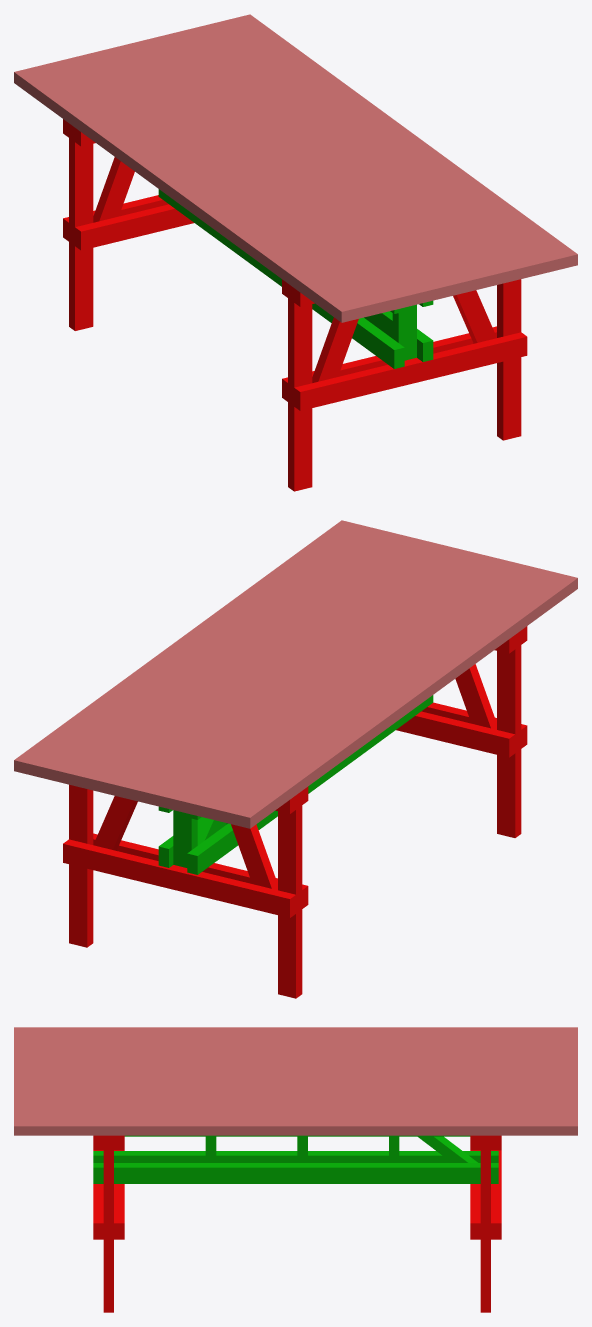
The model's file is result.glb.
The picture shows the model from 3 angles, top to bottom: view 1: azimuth 30°, elevation 25°; view 2: azimuth 150°, elevation 25°; view 3: azimuth 270°, elevation 25°; orthographic projection. The views are drawn at different scales.
Visible parts, largest first — view 1: f01cda4f-fea4-4fb4-b50f-f254b7c37427__Box, 9ad5894c-1731-42e7-a094-df88acd8469f__undefined, fd689261-884a-41bc-a431-fcae9d0514cc__undefined, 8b3b36bd-1a60-4970-8fec-e4345492557b__undefined, 8258c430-867c-410c-b911-88477d7d9fff__undefined, e932c676-e94f-4d91-ac6f-9d8df179f949__undefined, a14b9bd4-2081-4da4-8542-806a40004c1d__undefined, adceff99-3055-400a-8c76-454632bd57d8__undefined, 5f7ea577-e40b-4392-a7ad-b8107021092a__undefined, 0ea77595-7e87-43e1-b056-c6e717e0a643__undefined, a2caa1f7-7b6c-4606-88b4-88263eed52fd__undefined, cee1ed64-b99b-4541-9146-a5ae540dc895__undefined (+14 smaller); view 2: f01cda4f-fea4-4fb4-b50f-f254b7c37427__Box, 0ea77595-7e87-43e1-b056-c6e717e0a643__undefined, a2caa1f7-7b6c-4606-88b4-88263eed52fd__undefined, 5f7ea577-e40b-4392-a7ad-b8107021092a__undefined, adceff99-3055-400a-8c76-454632bd57d8__undefined, a14b9bd4-2081-4da4-8542-806a40004c1d__undefined, 8258c430-867c-410c-b911-88477d7d9fff__undefined, 9ad5894c-1731-42e7-a094-df88acd8469f__undefined, fd689261-884a-41bc-a431-fcae9d0514cc__undefined, e932c676-e94f-4d91-ac6f-9d8df179f949__undefined, 8b3b36bd-1a60-4970-8fec-e4345492557b__undefined, eae44491-f7da-47c2-a84f-74a95be33e50__undefined (+13 smaller); view 3: e932c676-e94f-4d91-ac6f-9d8df179f949__undefined, 15d348db-c147-4bd8-a8aa-251679641332__strutH, cee1ed64-b99b-4541-9146-a5ae540dc895__undefined, a14b9bd4-2081-4da4-8542-806a40004c1d__undefined, eae44491-f7da-47c2-a84f-74a95be33e50__undefined, f01cda4f-fea4-4fb4-b50f-f254b7c37427__Box, 0ea77595-7e87-43e1-b056-c6e717e0a643__undefined, adceff99-3055-400a-8c76-454632bd57d8__undefined, 8258c430-867c-410c-b911-88477d7d9fff__undefined, 9ad5894c-1731-42e7-a094-df88acd8469f__undefined, fd689261-884a-41bc-a431-fcae9d0514cc__undefined, a2caa1f7-7b6c-4606-88b4-88263eed52fd__undefined (+11 smaller).
Boxes of the visible parts, x1,y1,x2,y2 form: f01cda4f-fea4-4fb4-b50f-f254b7c37427__Box: (14, 67, 359, 322); 9ad5894c-1731-42e7-a094-df88acd8469f__undefined: (123, 41, 468, 296); fd689261-884a-41bc-a431-fcae9d0514cc__undefined: (159, 32, 505, 287); 8b3b36bd-1a60-4970-8fec-e4345492557b__undefined: (196, 23, 541, 278); 8258c430-867c-410c-b911-88477d7d9fff__undefined: (105, 45, 450, 300); e932c676-e94f-4d91-ac6f-9d8df179f949__undefined: (232, 14, 577, 269); a14b9bd4-2081-4da4-8542-806a40004c1d__undefined: (87, 50, 432, 304); adceff99-3055-400a-8c76-454632bd57d8__undefined: (69, 54, 414, 309); 5f7ea577-e40b-4392-a7ad-b8107021092a__undefined: (214, 19, 559, 273); 0ea77595-7e87-43e1-b056-c6e717e0a643__undefined: (50, 58, 396, 313); a2caa1f7-7b6c-4606-88b4-88263eed52fd__undefined: (178, 27, 523, 282); cee1ed64-b99b-4541-9146-a5ae540dc895__undefined: (32, 63, 377, 318); f01cda4f-fea4-4fb4-b50f-f254b7c37427__Box: (232, 573, 577, 828); 0ea77595-7e87-43e1-b056-c6e717e0a643__undefined: (195, 564, 540, 819); a2caa1f7-7b6c-4606-88b4-88263eed52fd__undefined: (68, 533, 413, 788); 5f7ea577-e40b-4392-a7ad-b8107021092a__undefined: (32, 524, 377, 779); adceff99-3055-400a-8c76-454632bd57d8__undefined: (177, 560, 522, 815); a14b9bd4-2081-4da4-8542-806a40004c1d__undefined: (159, 555, 504, 810); 8258c430-867c-410c-b911-88477d7d9fff__undefined: (141, 551, 486, 806); 9ad5894c-1731-42e7-a094-df88acd8469f__undefined: (123, 547, 468, 801); fd689261-884a-41bc-a431-fcae9d0514cc__undefined: (86, 538, 432, 793); e932c676-e94f-4d91-ac6f-9d8df179f949__undefined: (14, 520, 359, 775); 8b3b36bd-1a60-4970-8fec-e4345492557b__undefined: (50, 529, 395, 784); eae44491-f7da-47c2-a84f-74a95be33e50__undefined: (105, 542, 450, 797); e932c676-e94f-4d91-ac6f-9d8df179f949__undefined: (14, 1118, 577, 1135); 15d348db-c147-4bd8-a8aa-251679641332__strutH: (93, 1163, 498, 1183); cee1ed64-b99b-4541-9146-a5ae540dc895__undefined: (14, 1034, 577, 1042); a14b9bd4-2081-4da4-8542-806a40004c1d__undefined: (14, 1057, 577, 1065); eae44491-f7da-47c2-a84f-74a95be33e50__undefined: (14, 1080, 577, 1088); f01cda4f-fea4-4fb4-b50f-f254b7c37427__Box: (14, 1027, 577, 1034); 0ea77595-7e87-43e1-b056-c6e717e0a643__undefined: (14, 1042, 577, 1049); adceff99-3055-400a-8c76-454632bd57d8__undefined: (14, 1050, 577, 1057); 8258c430-867c-410c-b911-88477d7d9fff__undefined: (14, 1065, 577, 1072); 9ad5894c-1731-42e7-a094-df88acd8469f__undefined: (14, 1073, 577, 1080); fd689261-884a-41bc-a431-fcae9d0514cc__undefined: (14, 1088, 577, 1095); a2caa1f7-7b6c-4606-88b4-88263eed52fd__undefined: (14, 1096, 577, 1103).
Size of the model in its own units: 832 by 737 by 2000.
